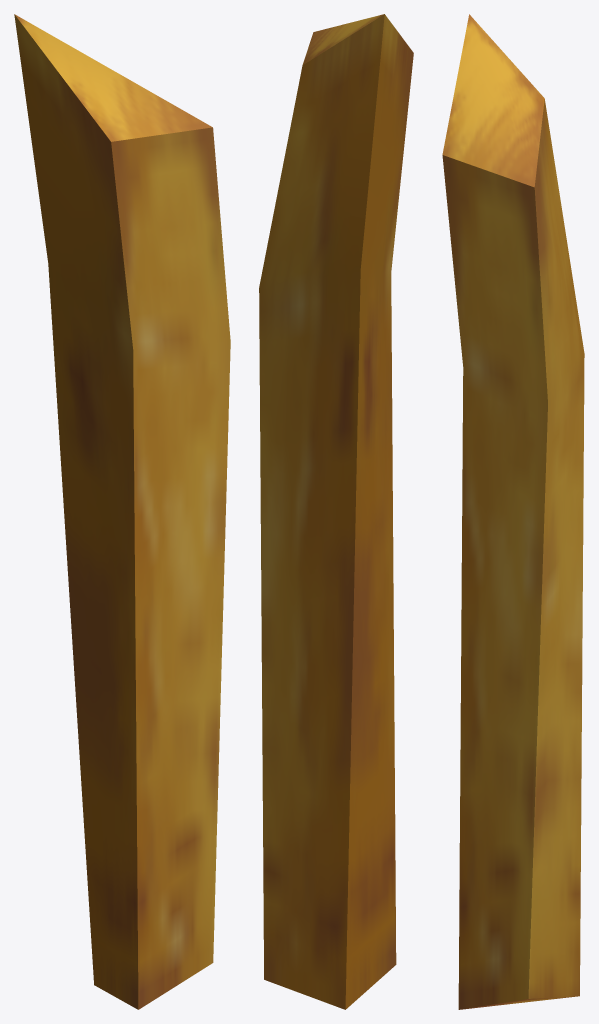
File: fries_002.fbx
The picture shows the model from 3 angles, left to right: view 1: azimuth 30°, elevation 25°; view 2: azimuth 150°, elevation 25°; view 3: azimuth 330°, elevation 25°; orthographic projection. The views are drawn at different scales.
Parts seen in each view (by area): view 1: fries.002; view 2: fries.002; view 3: fries.002.
Part boxes in pixels (<box>): fries.002: <box>14,14,230,1009</box>; fries.002: <box>259,14,413,1009</box>; fries.002: <box>442,14,584,1009</box>.
Bounding box in the file's own units: 3.12 × 19.45 × 2.51.
